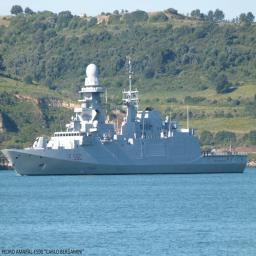Fragata: (2, 54, 250, 181)
